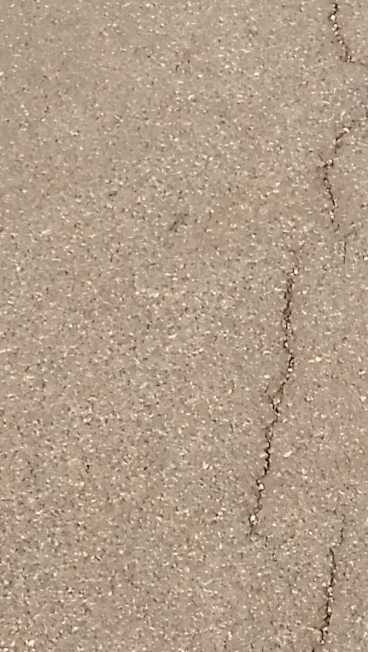A: (251, 1, 355, 648)
